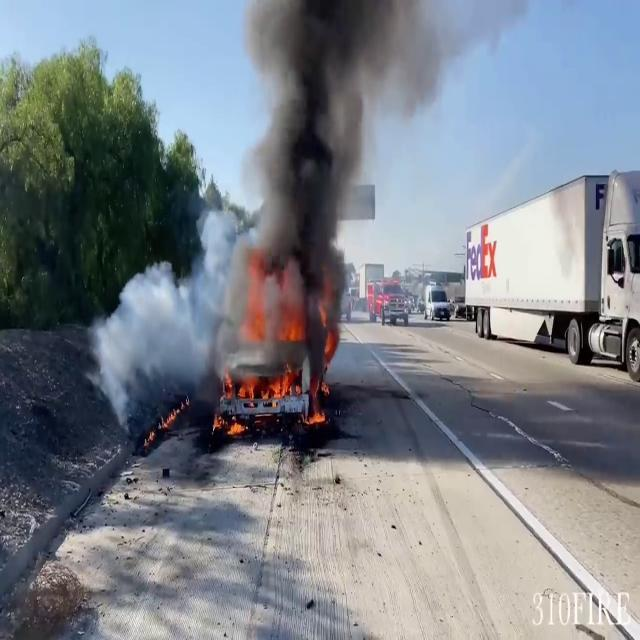Smoke: (226, 0, 402, 364), (95, 204, 262, 434)
